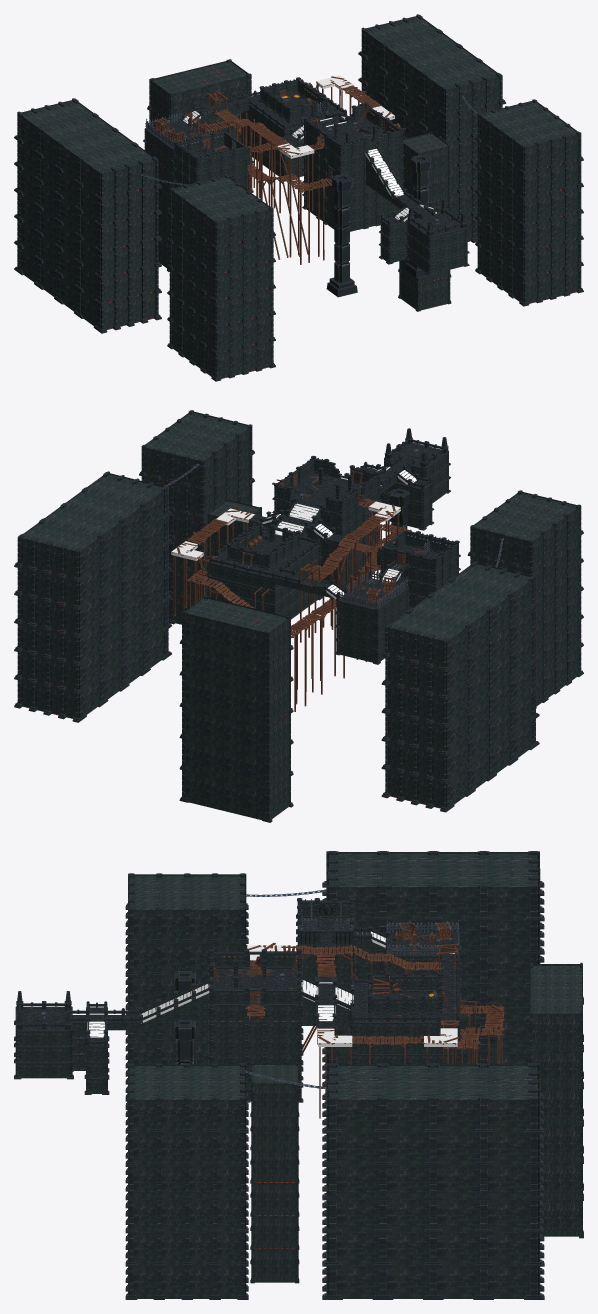
Rendered from OtherMap.fbx.
3 views of the same model, one above another, from view 1: azimuth 30°, elevation 25°; view 2: azimuth 150°, elevation 25°; view 3: azimuth 270°, elevation 25° (orthographic). The views are drawn at different scales.
Parts seen in each view (by area): view 1: Column_1_7, Column_1__1__5; view 2: Wall_plane_1_1side__75__5, Wall_plane_1_1side__69__6, Wall_plane_1_1side__71__5, Wall_plane_1_1side__73__5, Wall_plane_1_1side__77__5, Wall_plane_1_1side__79__5, Wall_plane_1_1side__58__6, Wall_plane_1_1side__64__6, Wall_plane_1_1side__66__6, Wall_plane_1_1side__60__6, Wall_plane_1_1side__56__6, Wall_plane_1_1side__62__6 (+14 smaller); view 3: Wall_plane_1_1side__81__3, Wall_plane_1_1side__92__3, Wall_plane_1_1side__80__3, Wall_plane_1_1side__80__4, Wall_plane_1_1side__92__4, Wall_plane_1_1side__83__3, Wall_plane_1_1side__91__3, Wall_plane_1_1side__82__3, Wall_plane_1_1side__94__3, Wall_plane_1_1side__102__3, Wall_plane_1_1side__90__3, Wall_plane_1_1side__89__3 (+55 smaller).
Part boxes in pixels (x1,y1,x2,y2): Column_1_7: (326, 174, 357, 297); Column_1__1__5: (405, 155, 436, 278); Wall_plane_1_1side__75__5: (225, 717, 246, 753); Wall_plane_1_1side__69__6: (225, 623, 246, 658); Wall_plane_1_1side__71__5: (225, 654, 246, 690); Wall_plane_1_1side__73__5: (225, 686, 246, 721); Wall_plane_1_1side__77__5: (225, 748, 246, 784); Wall_plane_1_1side__79__5: (225, 780, 246, 816); Wall_plane_1_1side__58__6: (205, 649, 225, 685); Wall_plane_1_1side__64__6: (205, 743, 225, 779); Wall_plane_1_1side__66__6: (205, 775, 225, 811); Wall_plane_1_1side__60__6: (205, 680, 225, 716); Wall_plane_1_1side__56__6: (205, 618, 225, 653); Wall_plane_1_1side__62__6: (205, 712, 225, 748); Wall_plane_1_1side__81__3: (336, 1099, 379, 1132); Wall_plane_1_1side__92__3: (487, 1099, 530, 1132); Wall_plane_1_1side__80__3: (386, 1099, 429, 1132); Wall_plane_1_1side__80__4: (386, 887, 429, 920); Wall_plane_1_1side__92__4: (487, 887, 530, 920); Wall_plane_1_1side__83__3: (336, 1132, 379, 1165); Wall_plane_1_1side__91__3: (336, 1265, 379, 1298); Wall_plane_1_1side__82__3: (386, 1132, 429, 1165); Wall_plane_1_1side__94__3: (487, 1132, 530, 1165); Wall_plane_1_1side__102__3: (487, 1265, 530, 1298); Wall_plane_1_1side__90__3: (386, 1265, 429, 1298); Wall_plane_1_1side__89__3: (336, 1232, 379, 1265).
Size of the model in its own units: 6700 by 3309 by 6467.
